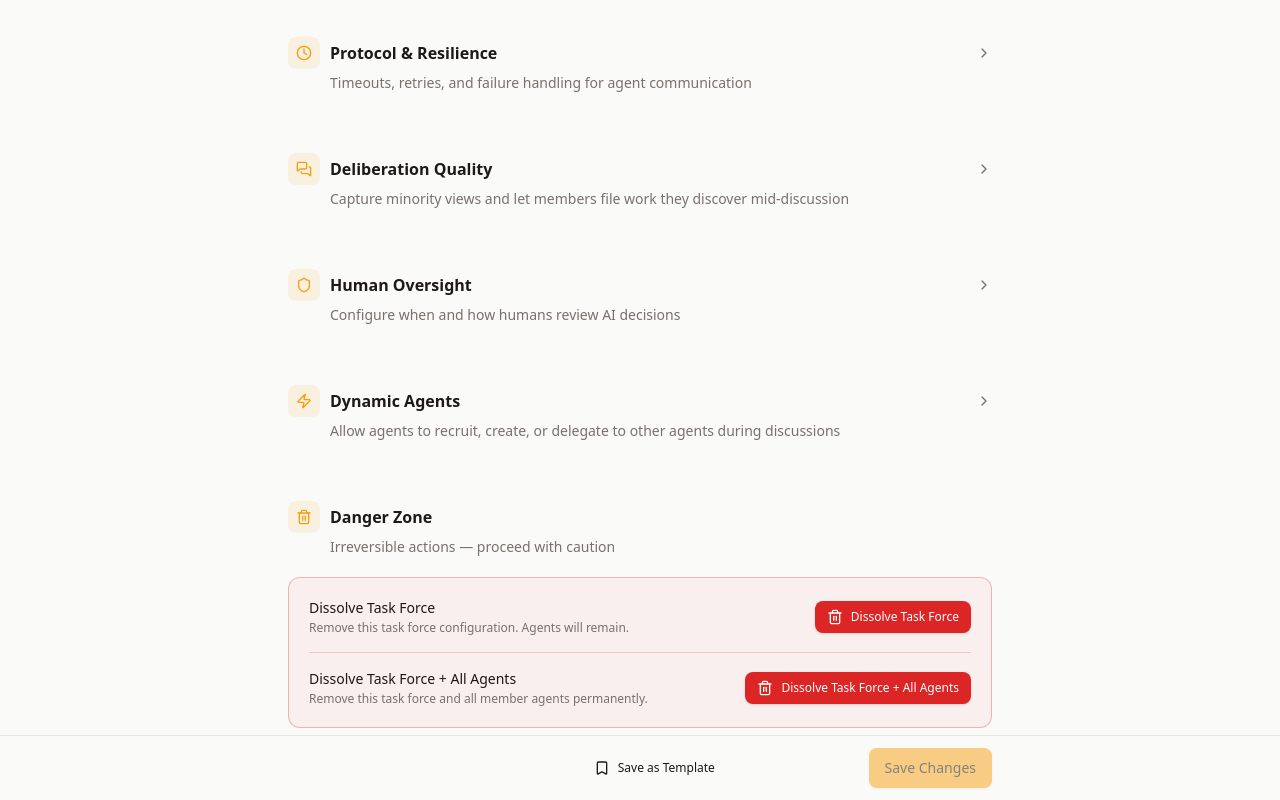
WorkforceSettings — group collaboration parity › dynamic agents (I7 / F18) › selects the stored lifecycle policy despite its wire format
(page scrolled)
What coordinates should you click on to do the following:
click the button "Dynamic Agents"
I would click on:
 (640, 423)
Its box is [288,385,992,461].
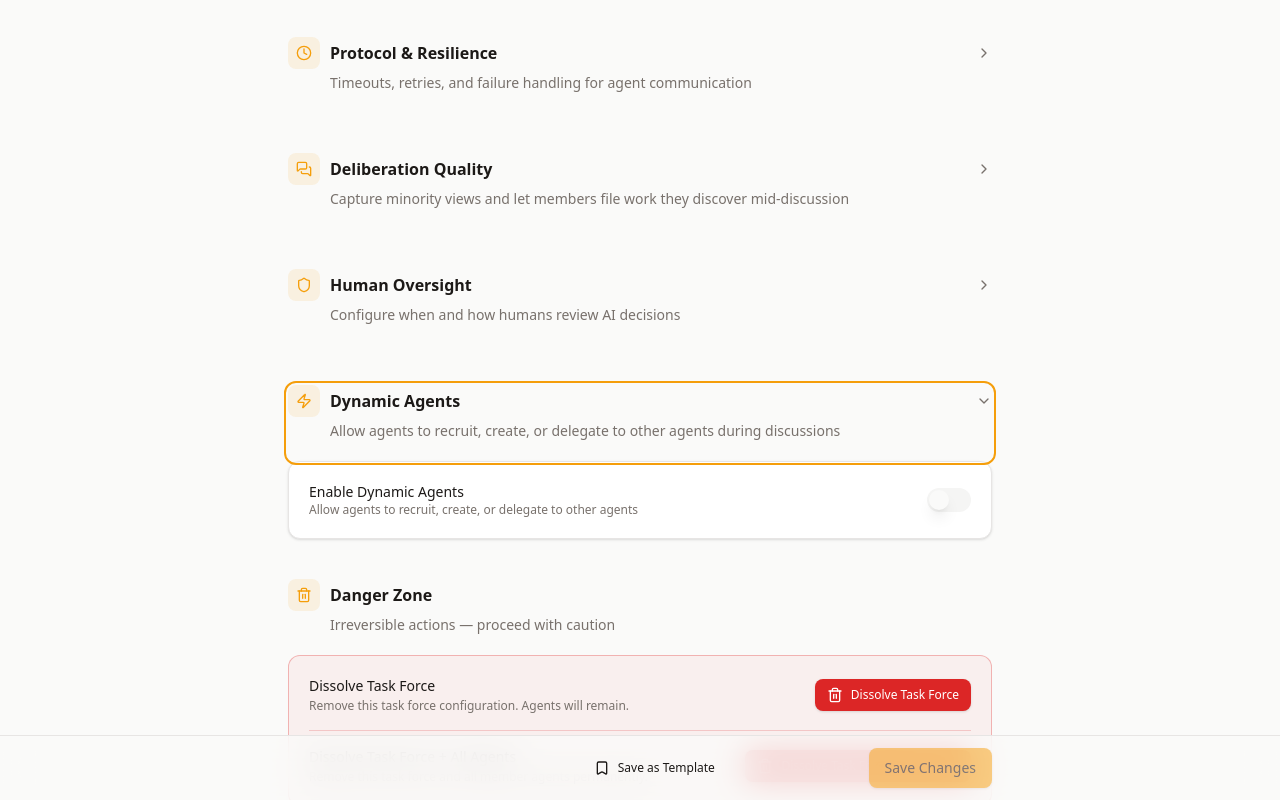
What coordinates should you click on to do the following:
click the switch
I would click on:
 (949, 500)
Its box is [927,488,971,512].
(page scrolled)
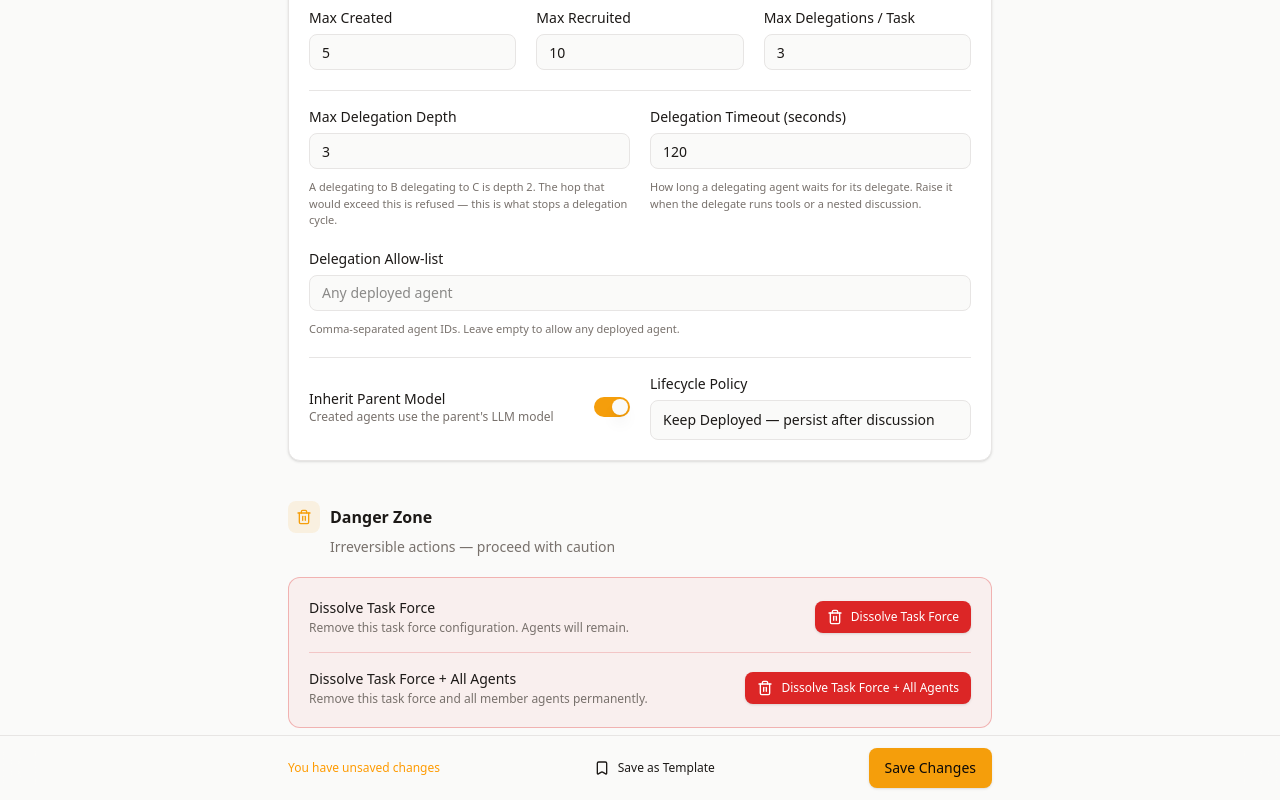
Result: the dropdown labelled "Lifecycle Policy" shows "Keep Deployed — persist after discussion" at [650,400,971,440]
